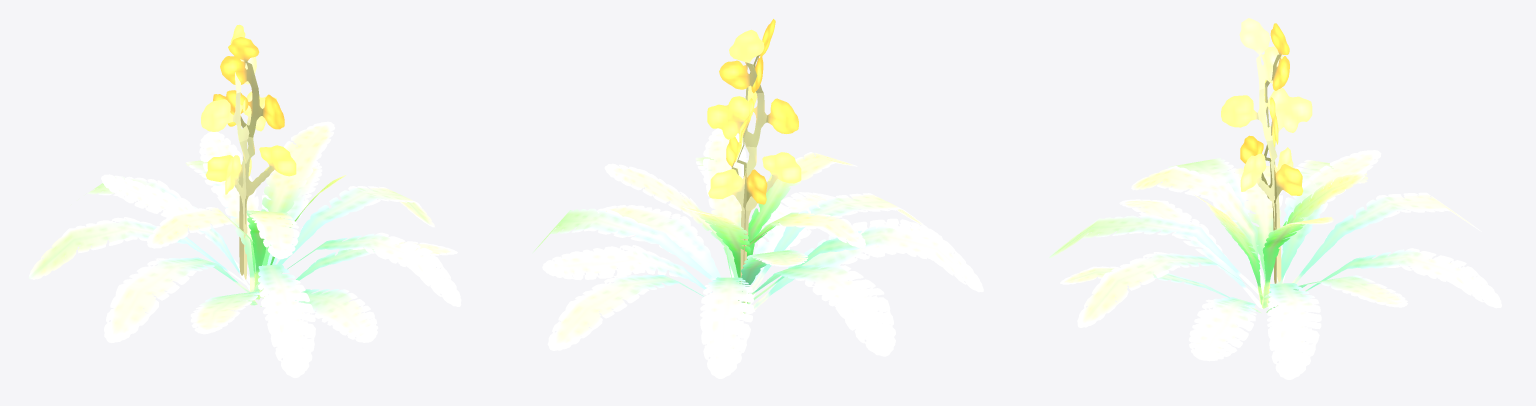
Rendered from Bush_02.fbx.
3 renders of one model, left to right at view 1: azimuth 30°, elevation 25°; view 2: azimuth 150°, elevation 25°; view 3: azimuth 270°, elevation 25°, orthographic. The views are drawn at different scales.
Parts seen in each view (by area): view 1: FLY2; view 2: FLY2; view 3: FLY2.
Boxes of the visible parts, x1,y1,x2,y2 form: FLY2: (28,24,461,377); FLY2: (533,19,983,378); FLY2: (1049,18,1501,379).
Bounding box in the file's own units: 240 × 166 × 252.
